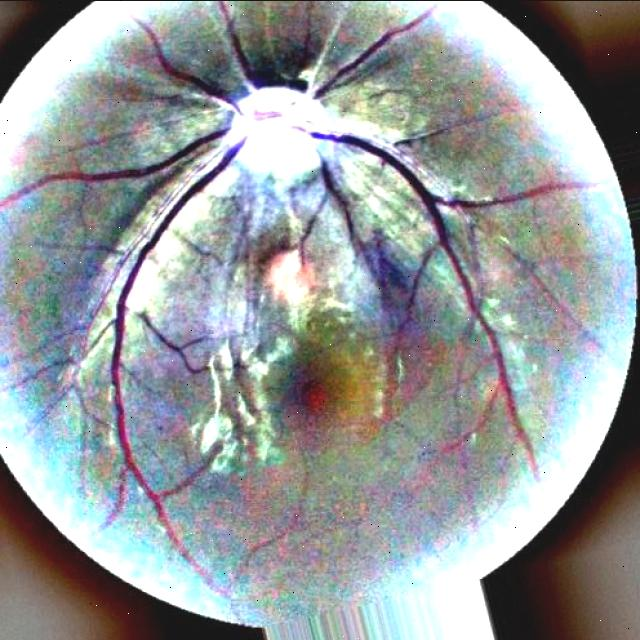Macula: (298, 376, 329, 412)
Optic Disk: (228, 83, 333, 182)
